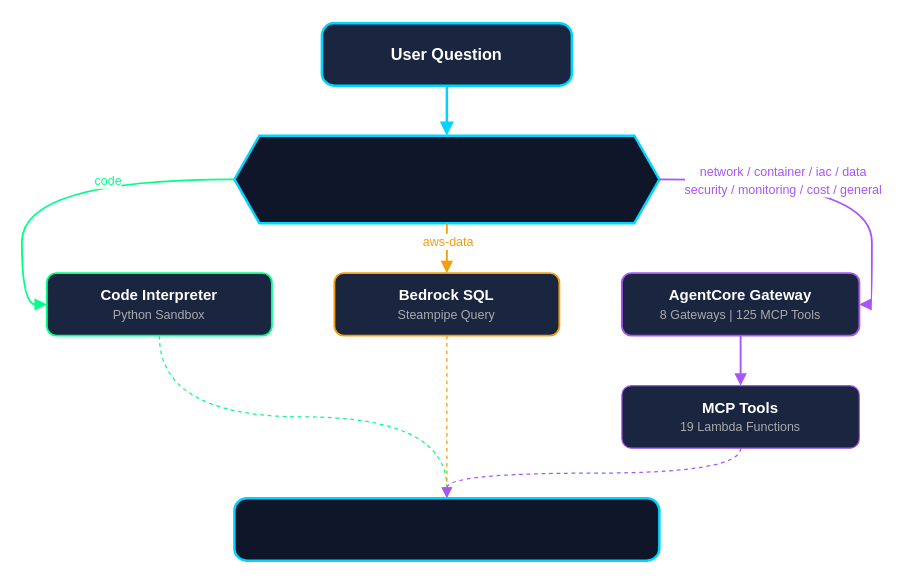
The diagram is 904 pixels wide and 583 high, and some of its shapes have lost their labels. The centre of each missing label's shape, as x and y in pixels:
Intent Classification Claude Sonnet | 10 Routes | 1-3 Selected: the point at 446,179
Response Multi-route: parallel processing + synthesis: the point at 446,528
